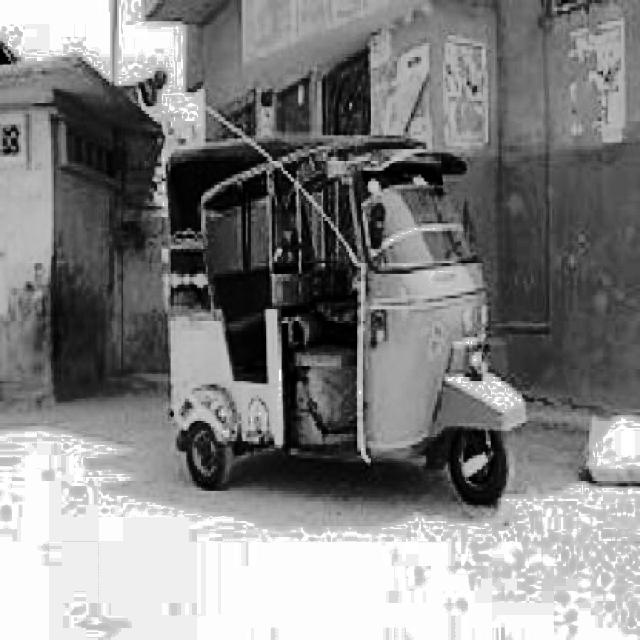Auto-Rickshaw: (160, 138, 518, 498)
